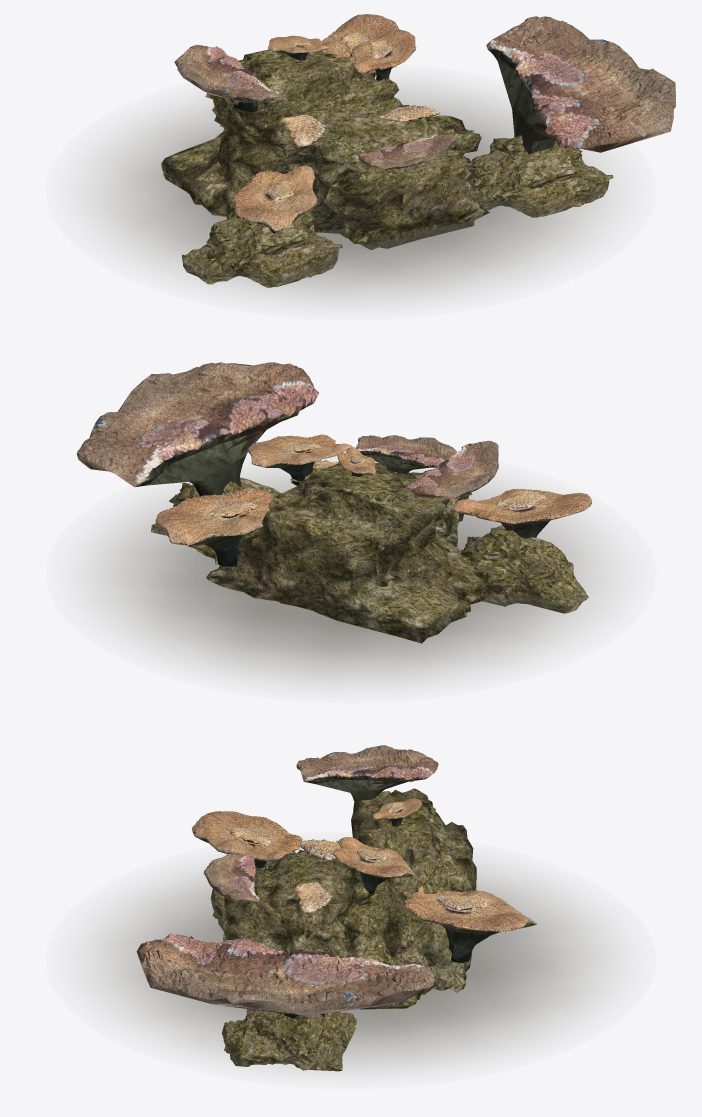
Rendered from acropora-hyacinthus.glb.
3 renders of one model, top to bottom at view 1: azimuth 30°, elevation 25°; view 2: azimuth 150°, elevation 25°; view 3: azimuth 270°, elevation 25°, orthographic.
Visible parts, largest first — view 1: sand, rock_rock0_hi, table_0, rock_rock3_hi, rock_rock3_hi.001, table_4, table_5, table_1, table_7, table_6, table_2, table_3 (+1 smaller); view 2: sand, rock_rock0_hi, table_0, rock_rock3_hi, table_6, table_4, table_5, table_1, table_7, rock_rock3_hi.001, table_3; view 3: sand, rock_rock0_hi, table_0, rock_rock3_hi.001, table_5, table_6, table_4, table_1, table_7, table_8, table_3, table_2.
Part boxes in pixels (x1=…): sand: x1=90, y1=83, x2=611, y2=301; rock_rock0_hi: x1=161, y1=49, x2=489, y2=249; table_0: x1=486, y1=16, x2=675, y2=153; rock_rock3_hi: x1=182, y1=207, x2=342, y2=287; rock_rock3_hi.001: x1=471, y1=135, x2=613, y2=217; table_4: x1=233, y1=165, x2=317, y2=233; table_5: x1=174, y1=44, x2=281, y2=112; table_1: x1=352, y1=29, x2=416, y2=80; table_7: x1=358, y1=134, x2=455, y2=169; table_6: x1=321, y1=14, x2=399, y2=78; table_2: x1=281, y1=114, x2=325, y2=146; table_3: x1=268, y1=35, x2=329, y2=60; sand: x1=91, y1=469, x2=611, y2=683; rock_rock0_hi: x1=188, y1=463, x2=490, y2=643; table_0: x1=77, y1=362, x2=319, y2=496; rock_rock3_hi: x1=460, y1=525, x2=588, y2=613; table_6: x1=155, y1=488, x2=272, y2=566; table_4: x1=453, y1=489, x2=591, y2=538; table_5: x1=406, y1=440, x2=498, y2=498; table_1: x1=248, y1=434, x2=352, y2=485; table_7: x1=356, y1=435, x2=456, y2=474; rock_rock3_hi.001: x1=151, y1=477, x2=281, y2=535; table_3: x1=337, y1=447, x2=375, y2=476; sand: x1=91, y1=864, x2=610, y2=1069; rock_rock0_hi: x1=222, y1=788, x2=476, y2=1009; table_0: x1=136, y1=933, x2=434, y2=1018; rock_rock3_hi.001: x1=222, y1=1009, x2=356, y2=1071; table_5: x1=296, y1=745, x2=438, y2=810; table_6: x1=401, y1=886, x2=536, y2=962; table_4: x1=191, y1=811, x2=302, y2=867; table_1: x1=332, y1=837, x2=414, y2=895; table_7: x1=203, y1=852, x2=259, y2=901; table_8: x1=295, y1=882, x2=332, y2=912; table_3: x1=373, y1=798, x2=422, y2=826; table_2: x1=300, y1=839, x2=340, y2=860.
Bounding box in the file's own units: 6 × 1.53 × 6.
Materials: 5 (5 with a texture image).
